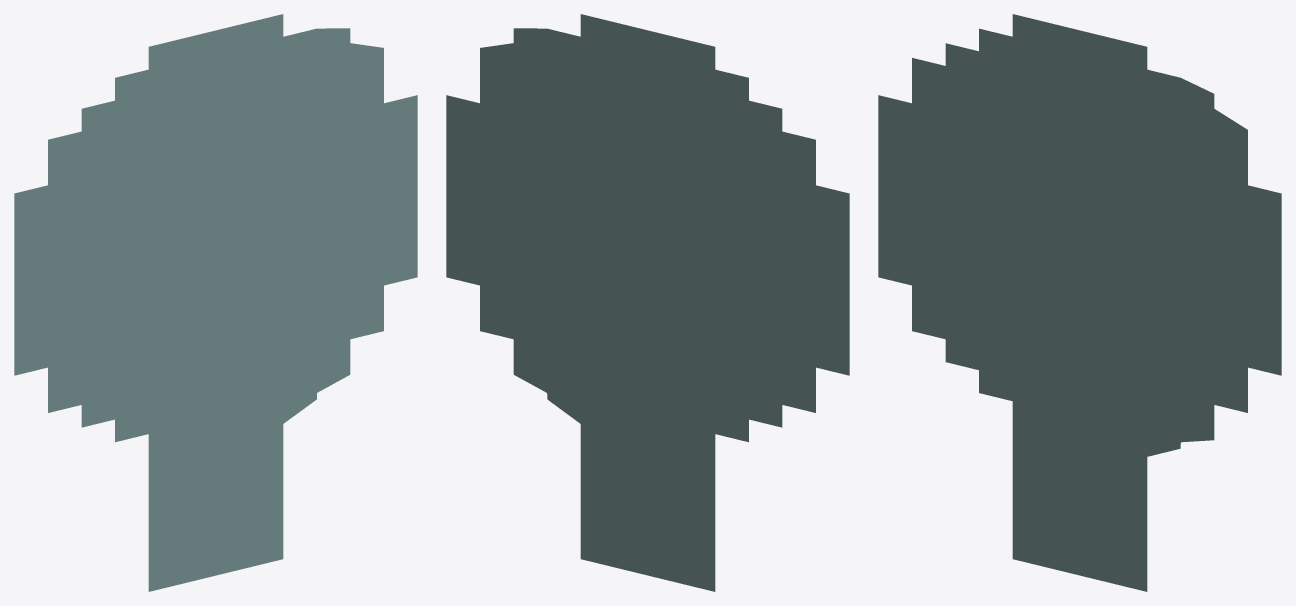
The model's file is AltarMirror.fbx.
The picture shows the model from 3 angles, left to right: view 1: azimuth 30°, elevation 25°; view 2: azimuth 150°, elevation 25°; view 3: azimuth 330°, elevation 25°; orthographic projection.
Parts seen in each view (by area): view 1: Mirror; view 2: Mirror; view 3: Mirror.
Part boxes in pixels (box(x1,y1,x2,y2)): Mirror: box(14, 14, 417, 591); Mirror: box(446, 14, 849, 591); Mirror: box(878, 14, 1281, 591).
Bounding box in the file's own units: 55.75 × 72 × 0.0154.
